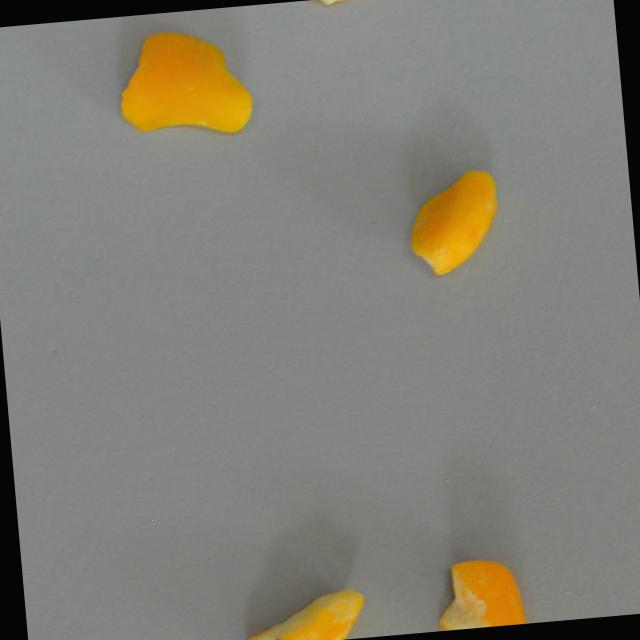estandar: (400, 161, 512, 279)
no_canjicado: (111, 19, 253, 144)
pelicula: (432, 552, 537, 631), (288, 0, 388, 19)
punto_negro: (231, 586, 375, 640)
